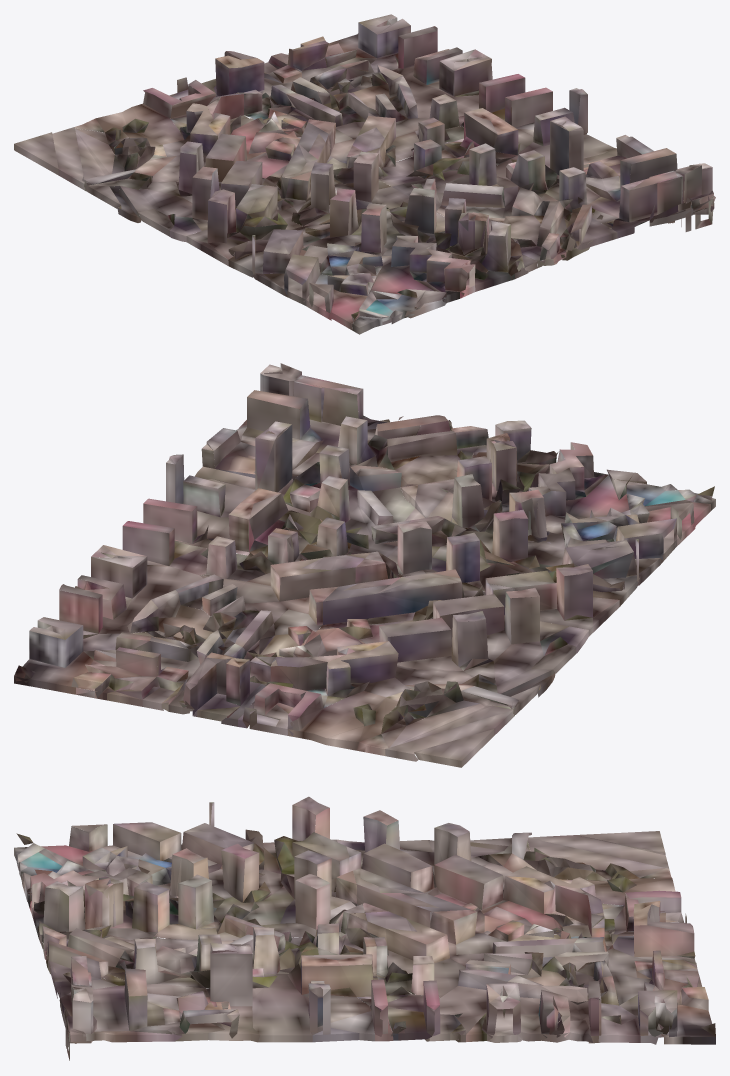
The picture shows the model from 3 angles, top to bottom: view 1: azimuth 30°, elevation 25°; view 2: azimuth 150°, elevation 25°; view 3: azimuth 270°, elevation 25°; orthographic projection. The views are drawn at different scales.
Parts seen in each view (by area): view 1: Mesh_0; view 2: Mesh_0; view 3: Mesh_0.
Part boxes in pixels (x1,y1,x2,y2): Mesh_0: (14,14,715,334); Mesh_0: (14,363,715,767); Mesh_0: (14,796,715,1060).
Size of the model in its own units: 533 by 96.78 by 659.
Materials: 2 (2 with a texture image).
